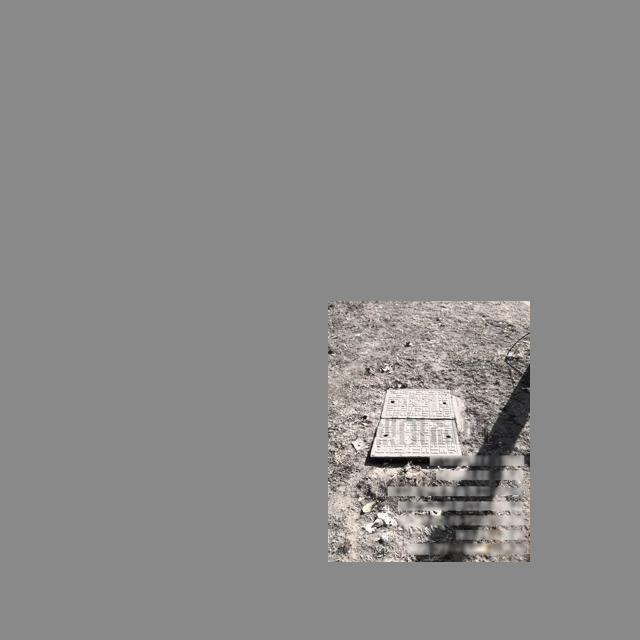uncovered: (368, 388, 462, 464)
